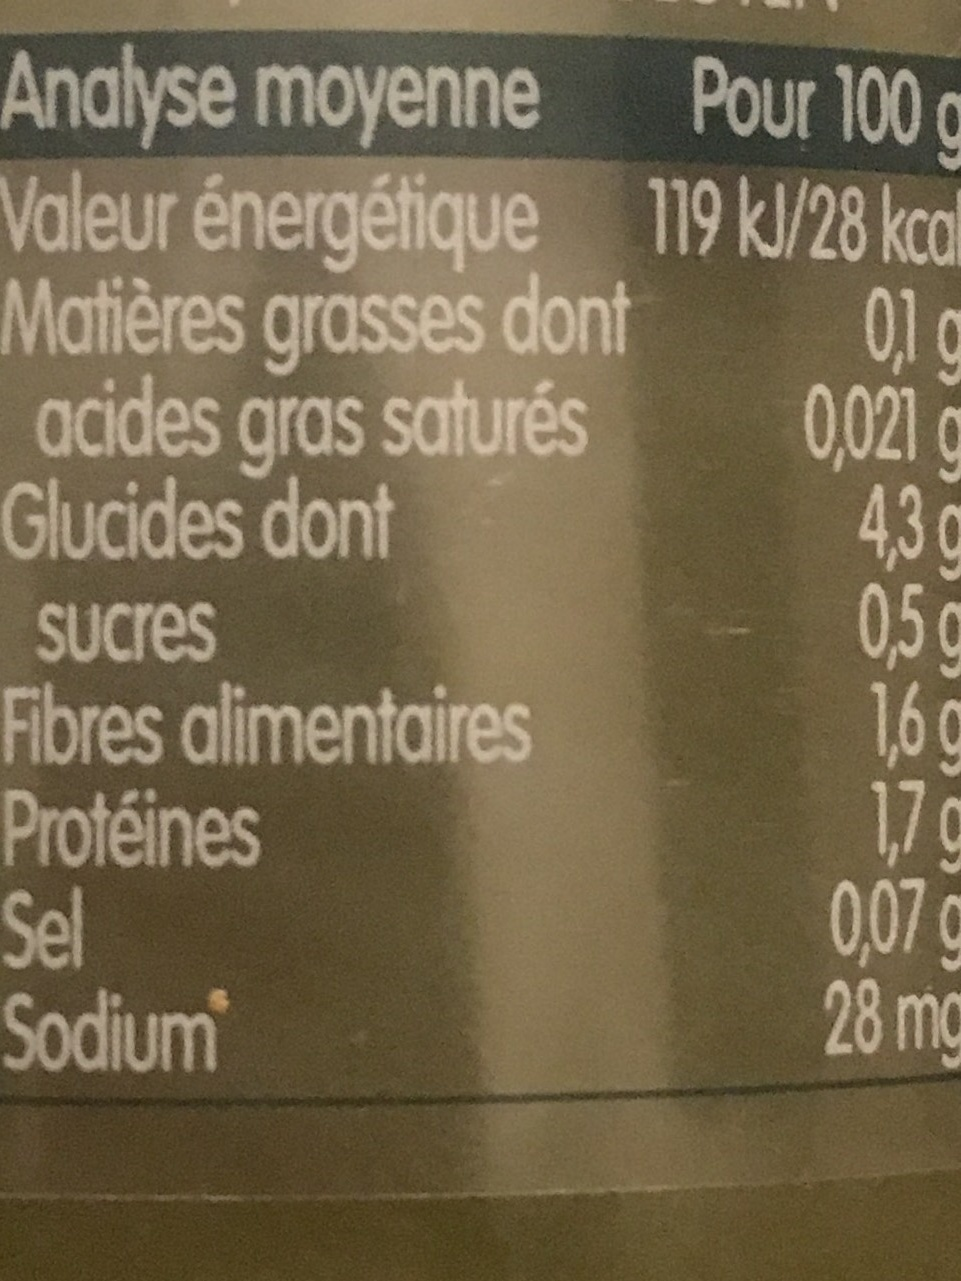column: (2, 48, 628, 1090), (649, 52, 961, 1072)
table: (2, 31, 961, 1113)
